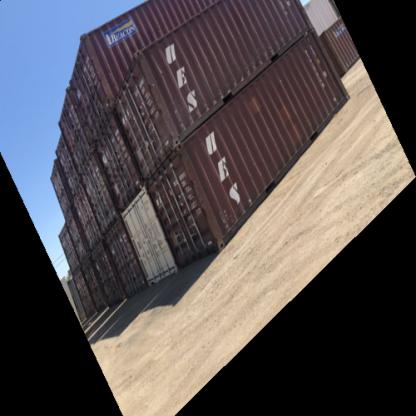Damage: (192, 171, 210, 222)
